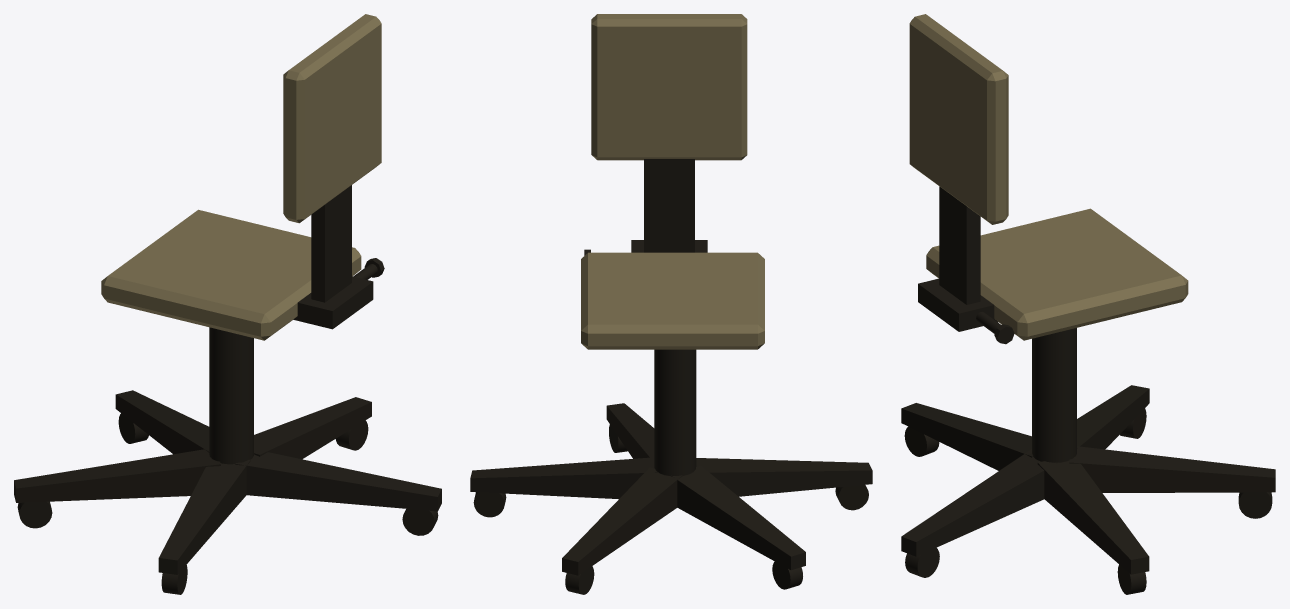
The model's file is swivelChairProp.fbx.
The picture shows the model from 3 angles, left to right: view 1: azimuth 30°, elevation 25°; view 2: azimuth 150°, elevation 25°; view 3: azimuth 270°, elevation 25°; orthographic projection. The views are drawn at different scales.
Parts seen in each view (by area): view 1: chair; view 2: chair; view 3: chair.
Part boxes in pixels (x1,y1,x2,y2): chair: [14, 14, 441, 594]; chair: [470, 14, 872, 594]; chair: [901, 14, 1275, 594].
Bounding box in the file's own units: 2.03 × 2.69 × 1.84.
